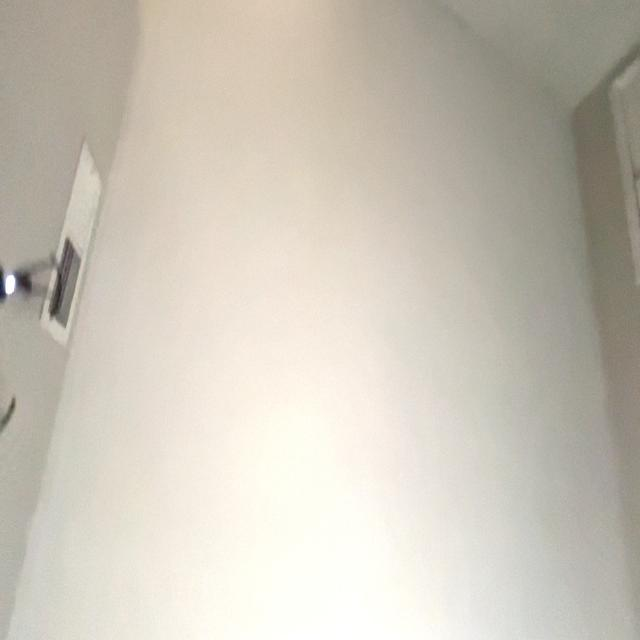drone: (0, 225, 71, 458)
